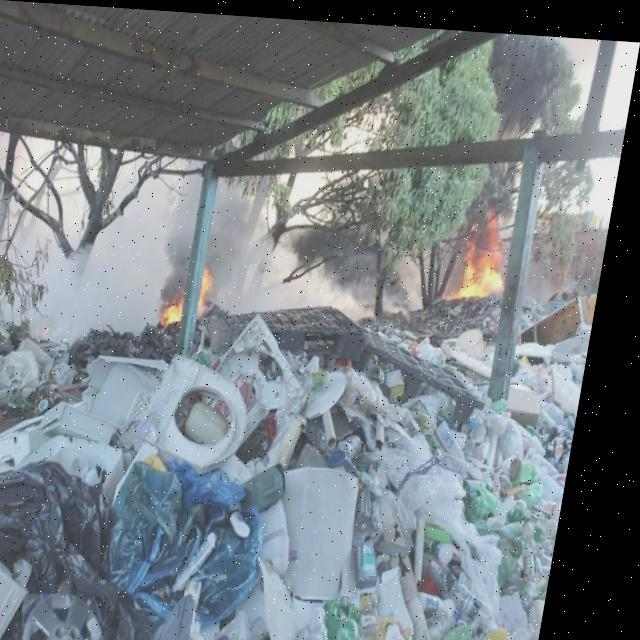Fire: (454, 200, 522, 290), (203, 259, 226, 312), (169, 288, 197, 330)
